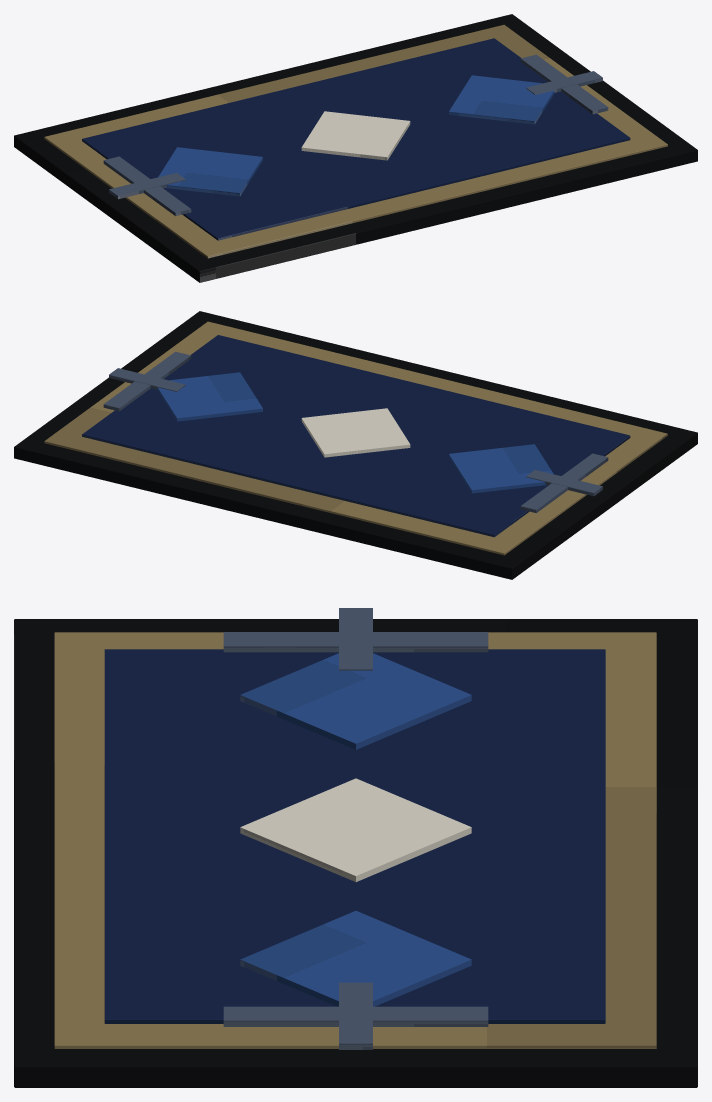
Rendered from gothic_bedroom_rug_midnight.glb.
3 views of the same model, one above another, from view 1: azimuth 30°, elevation 25°; view 2: azimuth 150°, elevation 25°; view 3: azimuth 270°, elevation 25° (orthographic). The views are drawn at different scales.
Parts seen in each view (by area): view 1: RugField, RugBase, RugBorder, GothicDiamond0.0, GothicDiamond0.65, GothicDiamond-0.65, RugCrossV0.92, RugCrossV-0.92, RugCrossH-0.92, RugCrossH0.92; view 2: RugField, RugBase, RugBorder, GothicDiamond0.0, GothicDiamond0.65, GothicDiamond-0.65, RugCrossV0.92, RugCrossV-0.92, RugCrossH-0.92, RugCrossH0.92; view 3: RugField, RugBase, RugBorder, GothicDiamond0.0, GothicDiamond-0.65, GothicDiamond0.65, RugCrossV0.92, RugCrossV-0.92, RugCrossH0.92, RugCrossH-0.92.
Boxes of the visible parts, x1=… form: RugField: x1=82, y1=38, x2=630, y2=240; RugBase: x1=14, y1=14, x2=697, y2=282; RugBorder: x1=44, y1=24, x2=667, y2=258; GothicDiamond0.0: x1=301, y1=111, x2=410, y2=160; GothicDiamond0.65: x1=449, y1=75, x2=554, y2=124; GothicDiamond-0.65: x1=158, y1=147, x2=262, y2=196; RugCrossV0.92: x1=520, y1=54, x2=608, y2=114; RugCrossV-0.92: x1=103, y1=156, x2=191, y2=216; RugCrossH-0.92: x1=109, y1=173, x2=185, y2=199; RugCrossH0.92: x1=526, y1=71, x2=602, y2=94; RugField: x1=82, y1=335, x2=630, y2=537; RugBase: x1=14, y1=311, x2=697, y2=579; RugBorder: x1=44, y1=321, x2=667, y2=555; GothicDiamond0.0: x1=301, y1=408, x2=410, y2=457; GothicDiamond0.65: x1=157, y1=372, x2=262, y2=421; GothicDiamond-0.65: x1=449, y1=444, x2=553, y2=493; RugCrossV0.92: x1=103, y1=351, x2=191, y2=411; RugCrossV-0.92: x1=520, y1=453, x2=608, y2=513; RugCrossH-0.92: x1=526, y1=470, x2=602, y2=496; RugCrossH0.92: x1=109, y1=368, x2=185, y2=391; RugField: x1=104, y1=649, x2=605, y2=1023; RugBase: x1=14, y1=619, x2=697, y2=1087; RugBorder: x1=54, y1=632, x2=656, y2=1048; GothicDiamond0.0: x1=240, y1=778, x2=471, y2=881; GothicDiamond-0.65: x1=240, y1=653, x2=471, y2=749; GothicDiamond0.65: x1=240, y1=911, x2=471, y2=1006; RugCrossV0.92: x1=223, y1=1006, x2=488, y2=1026; RugCrossV-0.92: x1=223, y1=632, x2=488, y2=652; RugCrossH0.92: x1=339, y1=982, x2=372, y2=1049; RugCrossH-0.92: x1=339, y1=608, x2=372, y2=670.
Size of the model in its own units: 2.2 by 0.088 by 1.42.
Materials: 1 (1 with a texture image).
